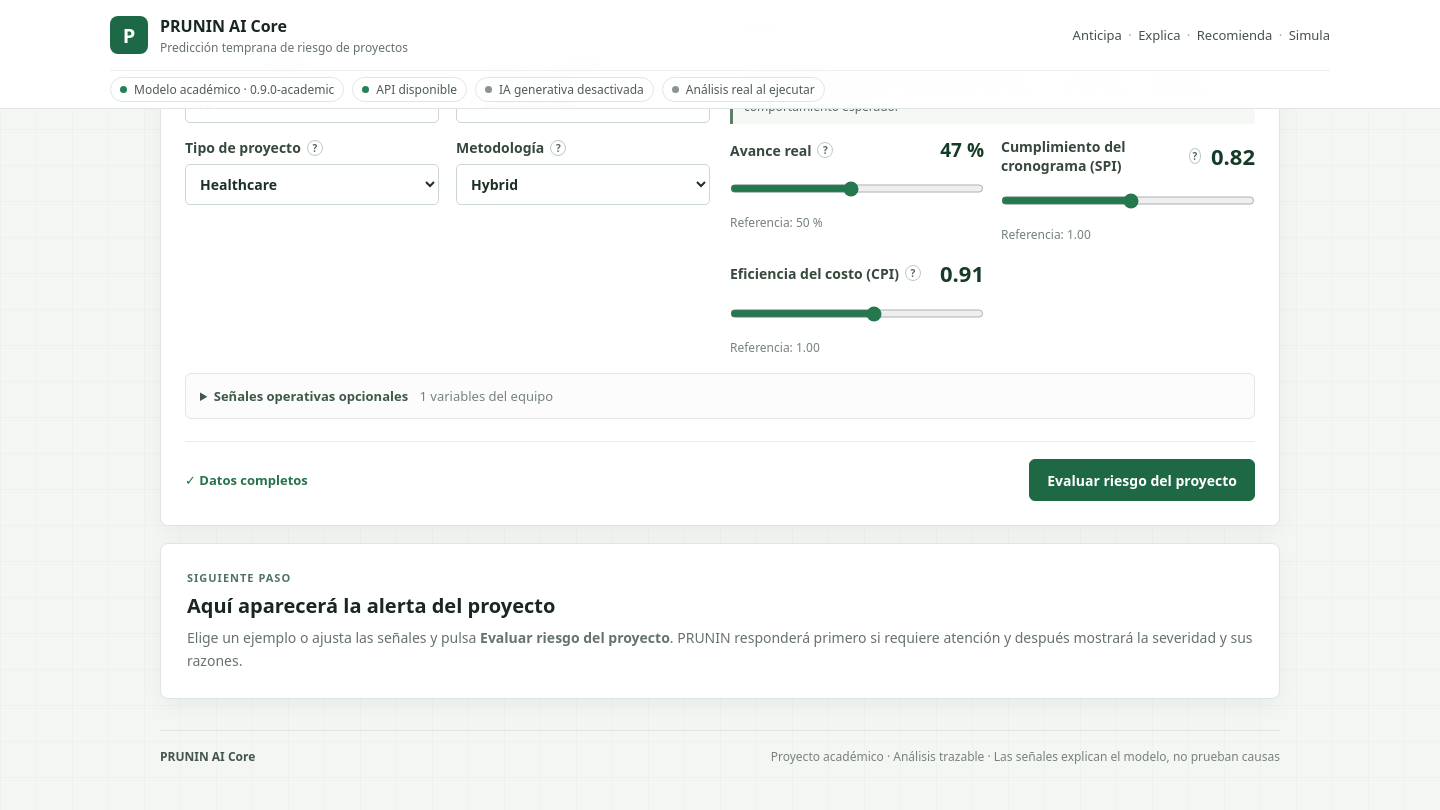
Playground ejecutivo › explica rechazo de grounding sin exponer el código interno
(page scrolled)
Click the button "Evaluar riesgo del proyecto" at (1142, 480), box [1029,459,1255,501]
(page scrolled)
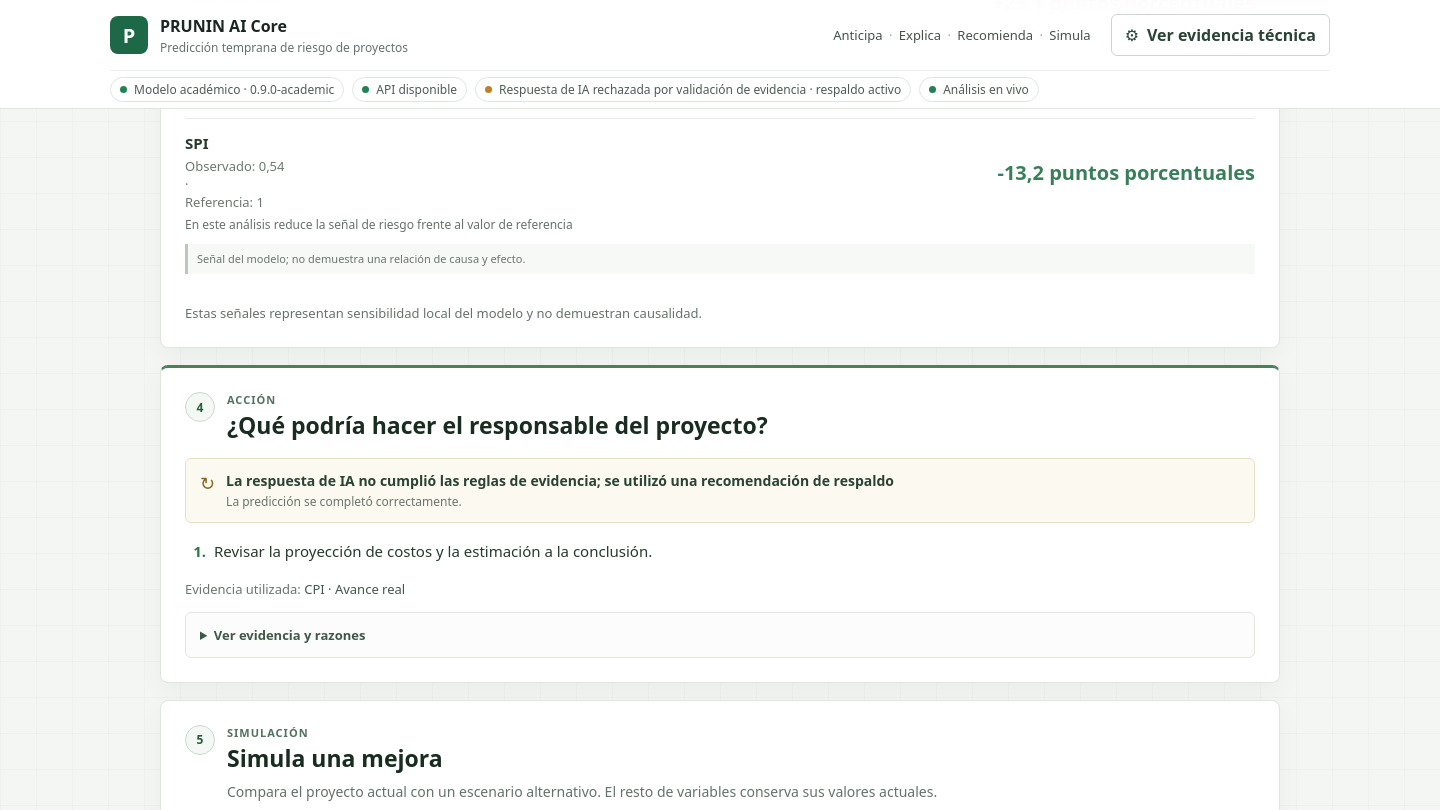
Expected: the text "La respuesta de IA no cumplió las reglas de evidencia" is shown, [226,471,894,490]
